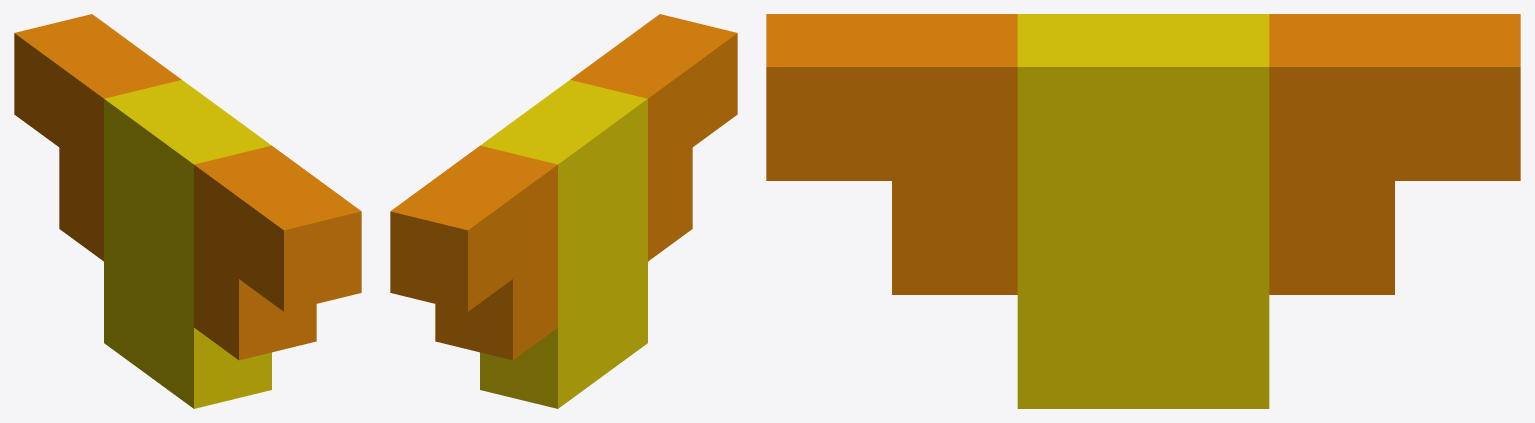
The model's file is AA_Proj_FireflyFlameBottom.fbx.
The picture shows the model from 3 angles, left to right: view 1: azimuth 30°, elevation 25°; view 2: azimuth 150°, elevation 25°; view 3: azimuth 270°, elevation 25°; orthographic projection. The views are drawn at different scales.
Parts seen in each view (by area): view 1: Cube.048, Cube.003, Cube.017, Cube.053, Cube.051, Cube.050, Cube.049, Cube.052, Cube.019, Cube.018, Cube.004, Cube.020; view 2: Cube.053, Cube.004, Cube.020, Cube.048, Cube.050, Cube.052, Cube.051, Cube.049, Cube.018, Cube.019, Cube.003, Cube.017; view 3: Cube.051, Cube.050, Cube.053, Cube.052, Cube.049, Cube.048, Cube.019, Cube.018, Cube.003, Cube.004, Cube.020, Cube.017.
Boxes of the visible parts, x1,y1,x2,y2 form: Cube.048: (239, 178, 361, 311); Cube.003: (149, 295, 271, 408); Cube.017: (194, 246, 316, 360); Cube.053: (14, 14, 136, 146); Cube.051: (104, 80, 226, 212); Cube.050: (149, 112, 271, 245); Cube.049: (194, 145, 316, 278); Cube.052: (59, 47, 181, 179); Cube.019: (104, 180, 148, 294); Cube.018: (149, 213, 193, 326); Cube.004: (104, 262, 148, 375); Cube.020: (59, 148, 103, 261); Cube.053: (390, 178, 512, 311); Cube.004: (480, 295, 602, 408); Cube.020: (435, 246, 557, 360); Cube.048: (615, 14, 737, 146); Cube.050: (525, 80, 647, 212); Cube.052: (435, 145, 557, 278); Cube.051: (480, 112, 602, 245); Cube.049: (570, 47, 692, 179); Cube.018: (603, 180, 647, 294); Cube.019: (558, 213, 602, 326); Cube.003: (603, 262, 647, 375); Cube.017: (648, 148, 692, 261); Cube.051: (1143, 14, 1269, 180); Cube.050: (1017, 14, 1143, 180); Cube.053: (1395, 14, 1520, 180); Cube.052: (1269, 14, 1394, 180); Cube.049: (892, 14, 1017, 180); Cube.048: (766, 14, 891, 180); Cube.019: (1143, 181, 1269, 294); Cube.018: (1017, 181, 1143, 294); Cube.003: (1017, 295, 1143, 408); Cube.004: (1143, 295, 1269, 408); Cube.020: (1269, 181, 1394, 294); Cube.017: (892, 181, 1017, 294).
Size of the model in its own units: 200 by 600 by 1200.
